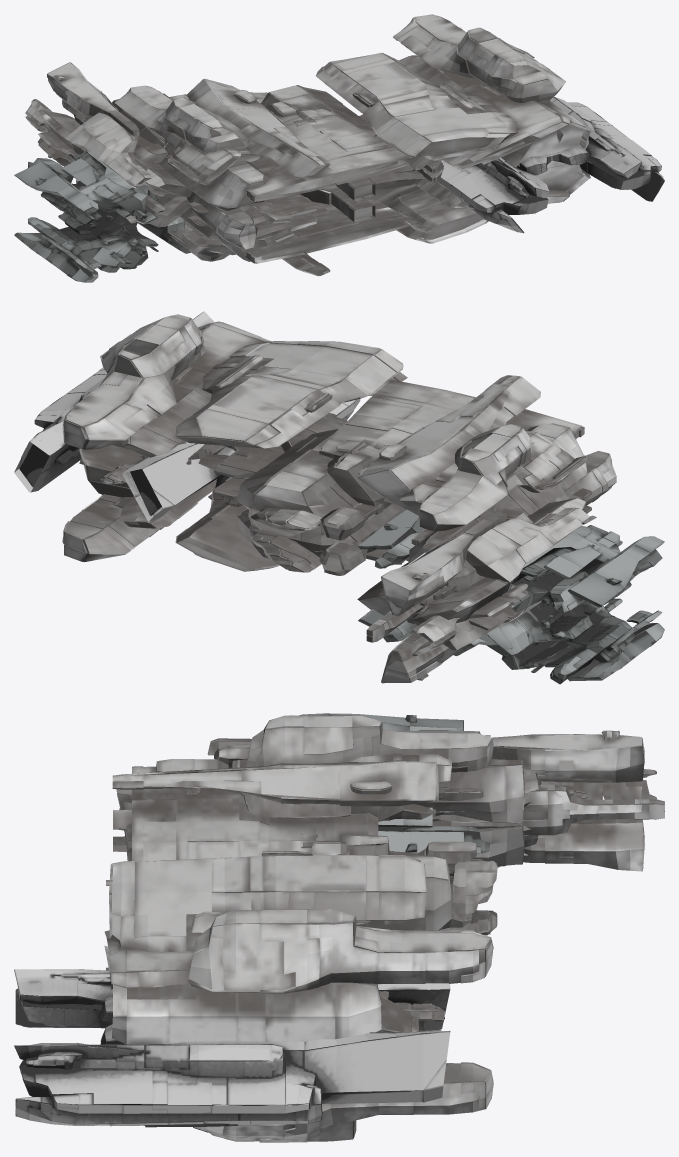
The model's file is MOTHERSHIP_010.fbx.
3 views of the same model, one above another, from view 1: azimuth 30°, elevation 25°; view 2: azimuth 150°, elevation 25°; view 3: azimuth 270°, elevation 25° (orthographic). The views are drawn at different scales.
Visible parts, largest first — view 1: MOTHERSHIP_010; view 2: MOTHERSHIP_010; view 3: MOTHERSHIP_010.
Boxes of the visible parts, x1=… form: MOTHERSHIP_010: x1=14, y1=14, x2=664, y2=282; MOTHERSHIP_010: x1=14, y1=311, x2=664, y2=684; MOTHERSHIP_010: x1=14, y1=713, x2=664, y2=1142.
Bounding box in the file's own units: 122 × 33.95 × 91.49.
